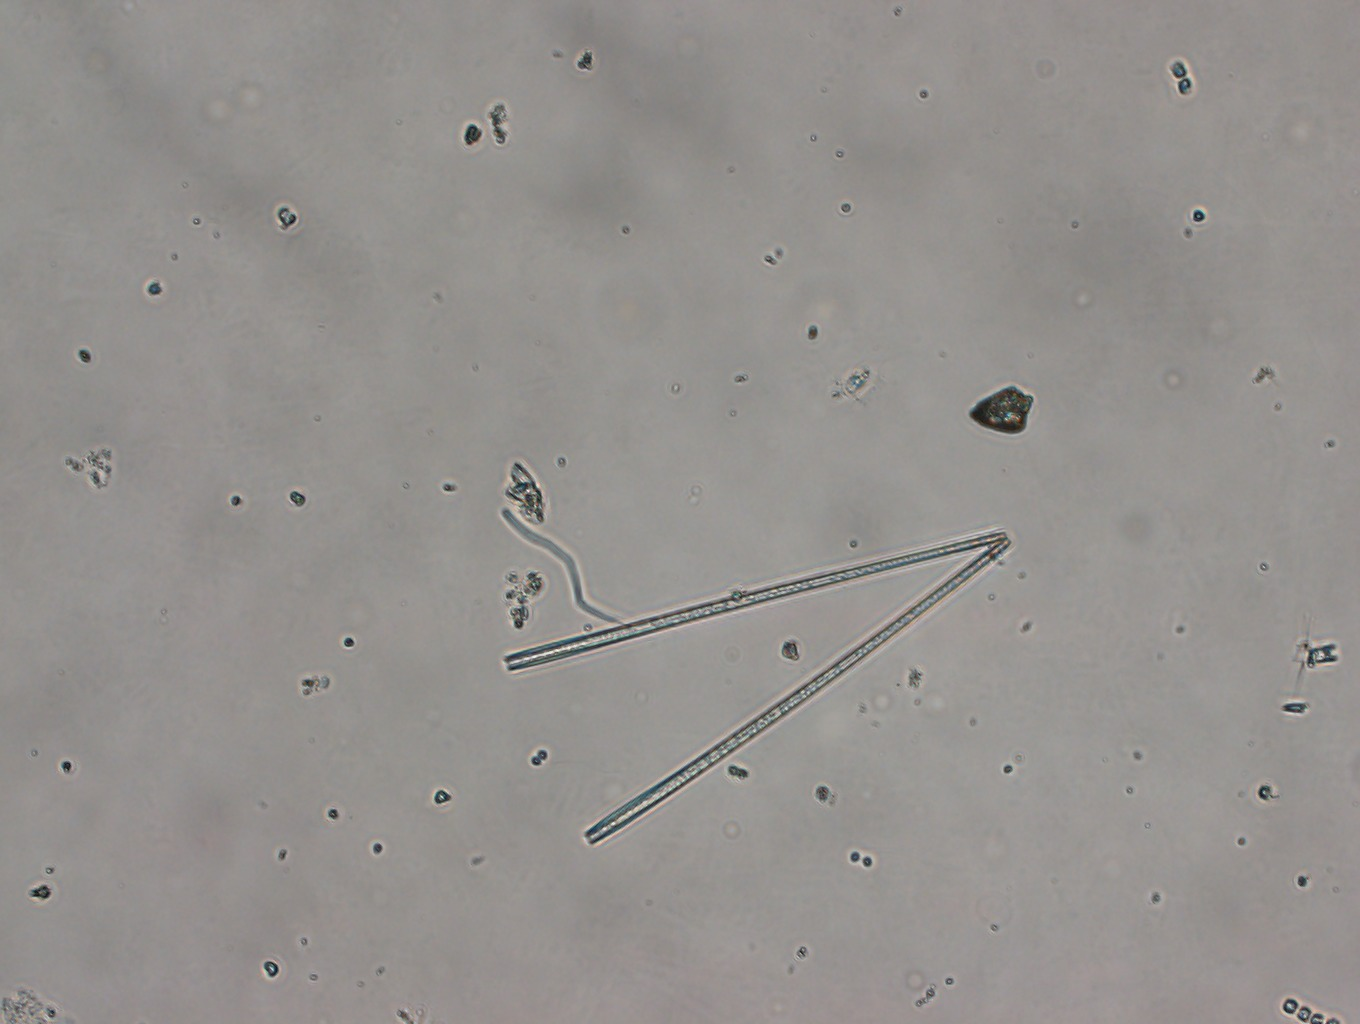thalassionema frauenfeldii: (502, 528, 1011, 849)
